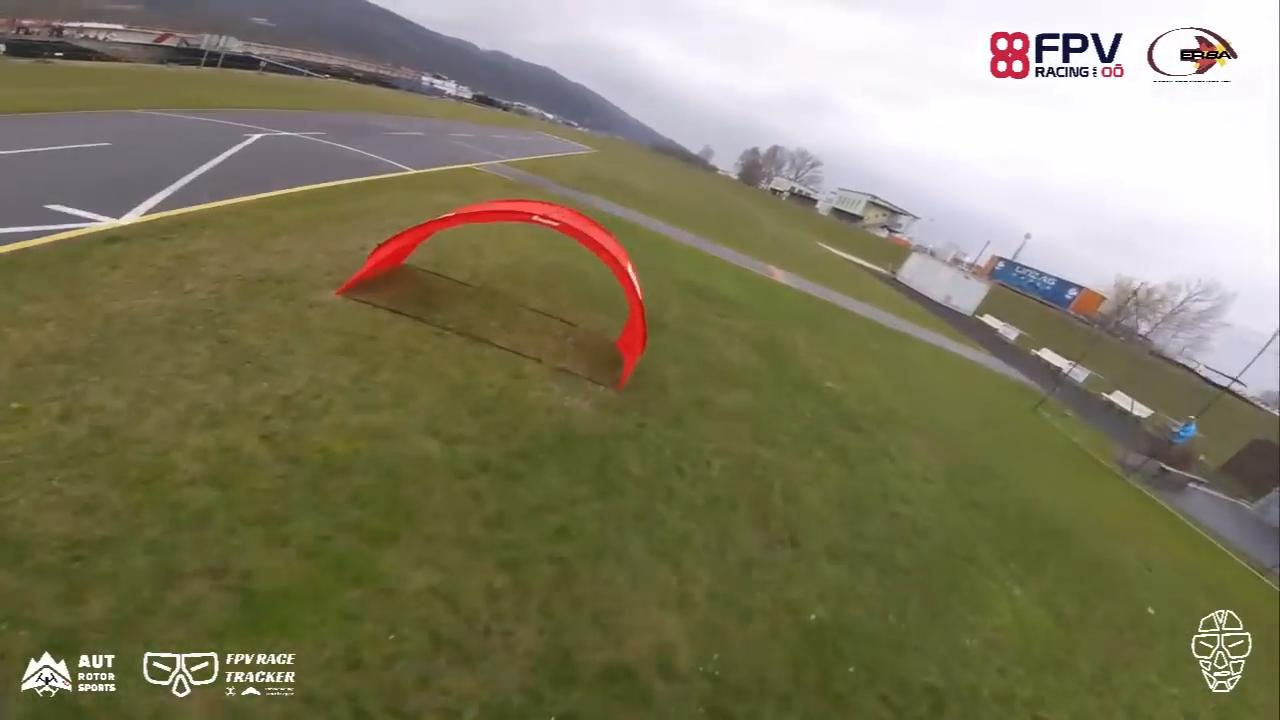gate: (337, 198, 653, 398)
